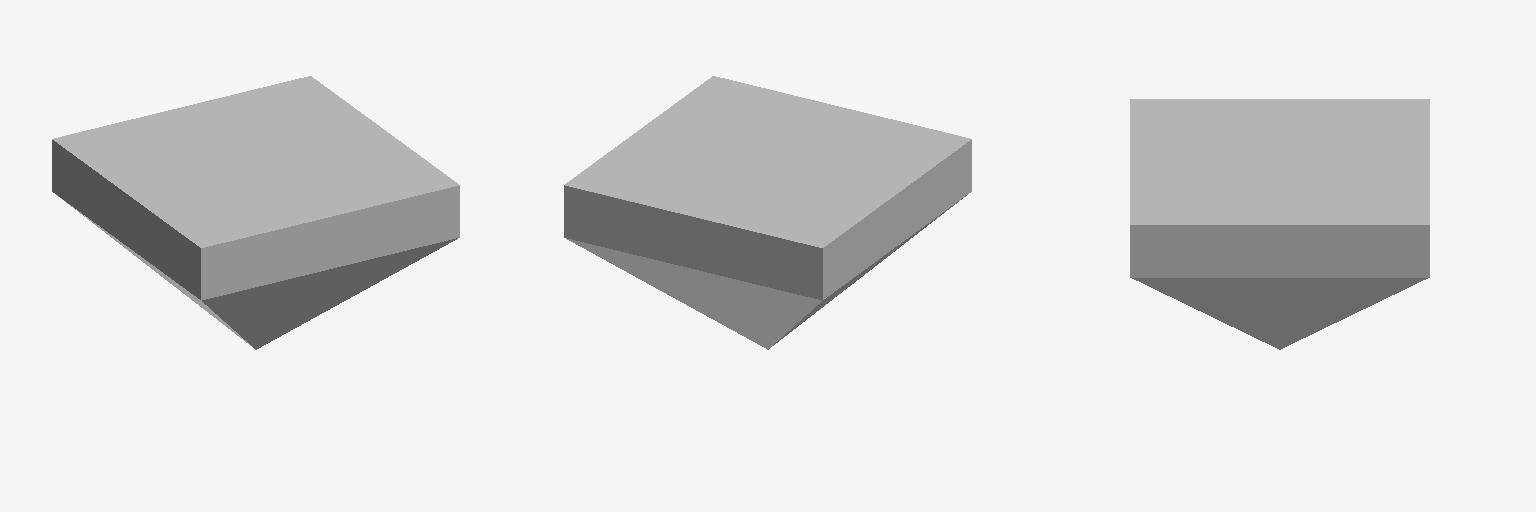
Rendered from waist.obj.
The picture shows the model from 3 angles: view 1: azimuth 30°, elevation 25°; view 2: azimuth 150°, elevation 25°; view 3: azimuth 270°, elevation 25°; orthographic projection.
Visible parts, largest first — view 1: 腰_立方体.001; view 2: 腰_立方体.001; view 3: 腰_立方体.001.
Part boxes in pixels (x1,y1,x2,y2): 腰_立方体.001: (52, 76, 459, 349); 腰_立方体.001: (564, 76, 971, 349); 腰_立方体.001: (1130, 99, 1429, 349).
Size of the model in its own units: 2 by 1.39 by 2.